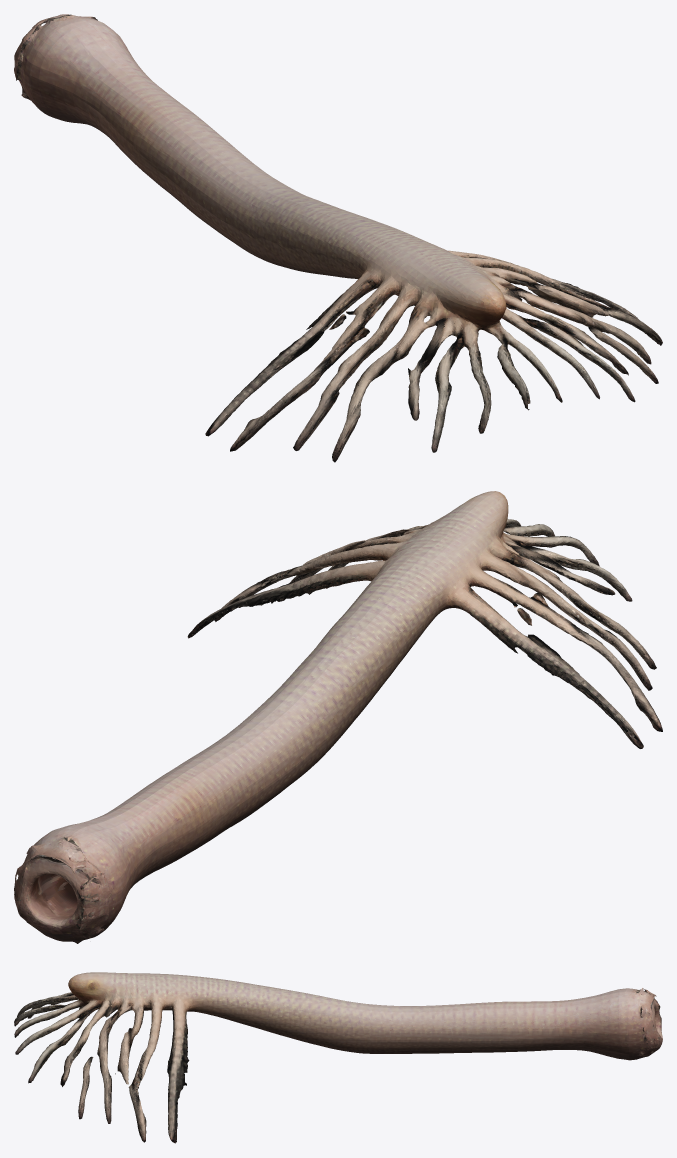
3 renders of one model, top to bottom at view 1: azimuth 30°, elevation 25°; view 2: azimuth 150°, elevation 25°; view 3: azimuth 270°, elevation 25°, orthographic. The views are drawn at different scales.
Visible parts, largest first — view 1: world; view 2: world; view 3: world.
Part boxes in pixels (x1,y1,x2,y2): world: (14, 14, 662, 462); world: (14, 491, 662, 943); world: (14, 972, 662, 1143).
Bounding box in the file's own units: 0.0236 × 0.00749 × 0.0453.
1 material, 1 textured.
